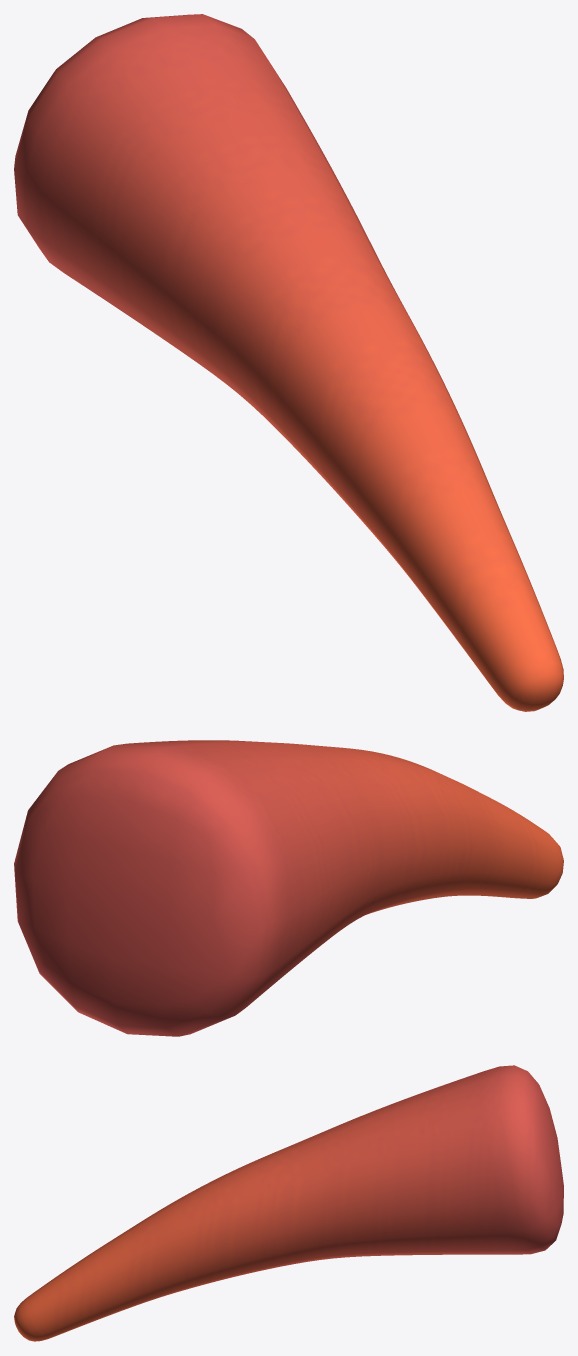
Rendered from Attach_Tail.fbx.
3 renders of one model, top to bottom at view 1: azimuth 30°, elevation 25°; view 2: azimuth 150°, elevation 25°; view 3: azimuth 270°, elevation 25°, orthographic. The views are drawn at different scales.
Parts seen in each view (by area): view 1: Attach_Tail; view 2: Attach_Tail; view 3: Attach_Tail.
Boxes of the visible parts, x1,y1,x2,y2 form: Attach_Tail: (14, 14, 563, 711); Attach_Tail: (14, 740, 563, 1036); Attach_Tail: (14, 1065, 563, 1341).
Size of the model in its own units: 0.4194 by 1.23 by 0.6502.
